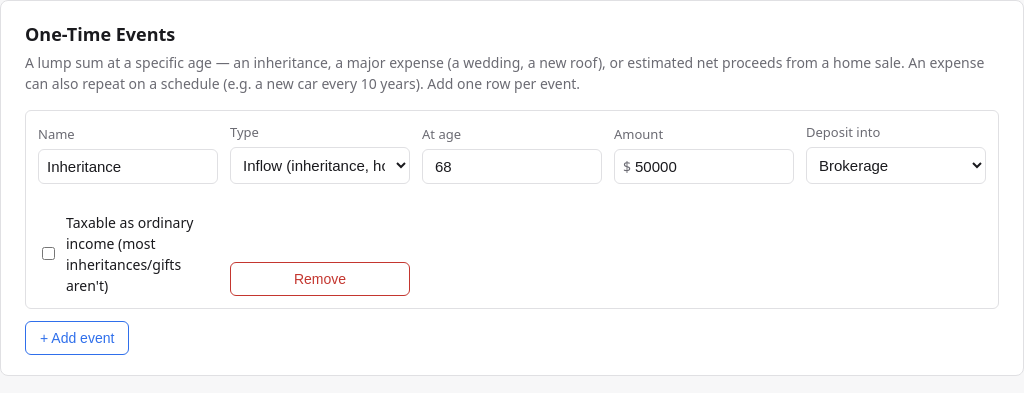
Test case: OneTimeEventsSection › flips the sign of the amount when switching between inflow and outflow, preserving magnitude
Select "Outflow (major expense)" in the dropdown labelled "Type": [320, 165] box 230,146 -> 410,184
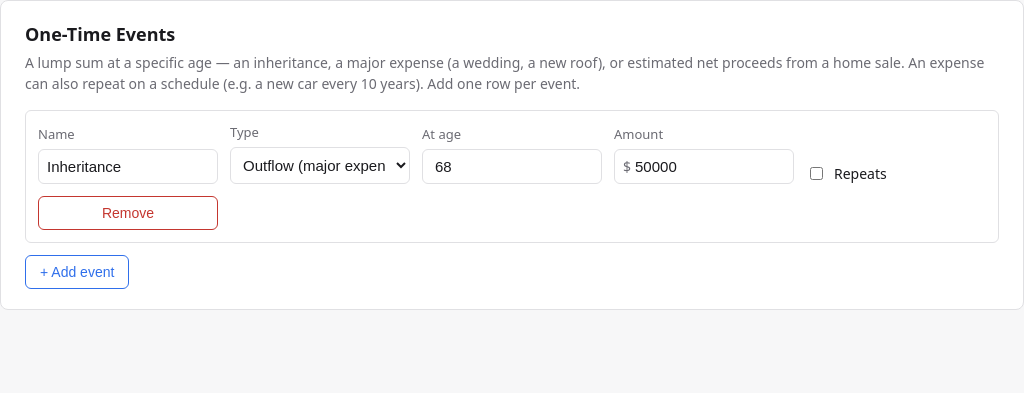
Expected: the number field labelled "Amount $" holds "50000", 631,150 -> 785,182
Now the text labelled "Deposit into" is gone
